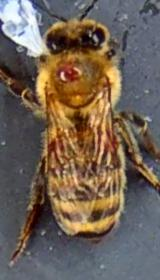varroa_mite: (56, 54, 92, 99)
